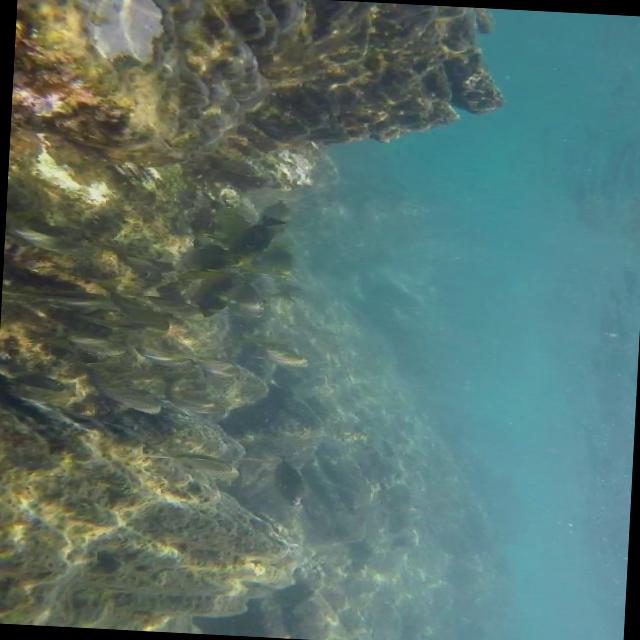Sokar Baligi: (59, 329, 184, 419)
